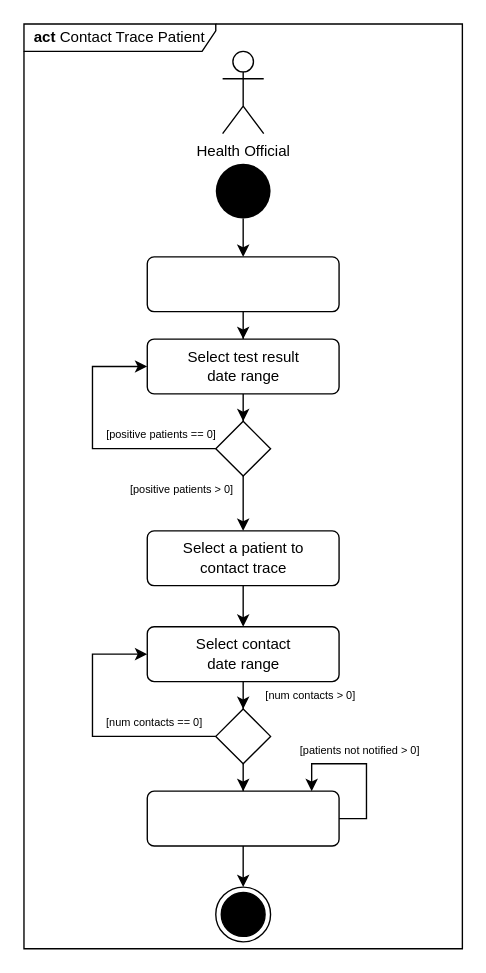
The diagram is 486 pixels wide and 973 high, and some of its shapes have lost their labels. Each missing label, with the centre of its shape:
"Notify contact traced patient" goes at [242,818].
"View positive patients list" goes at [242,284].
